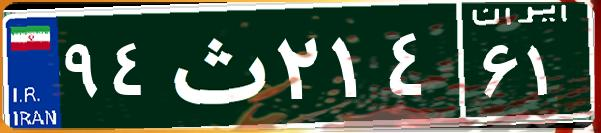1: (330, 28, 385, 110), (525, 38, 570, 115)
2: (273, 28, 330, 110)
4: (385, 28, 445, 110), (110, 28, 158, 105)
6: (475, 38, 525, 113)
9: (57, 26, 110, 107)
ث: (158, 15, 273, 115)
